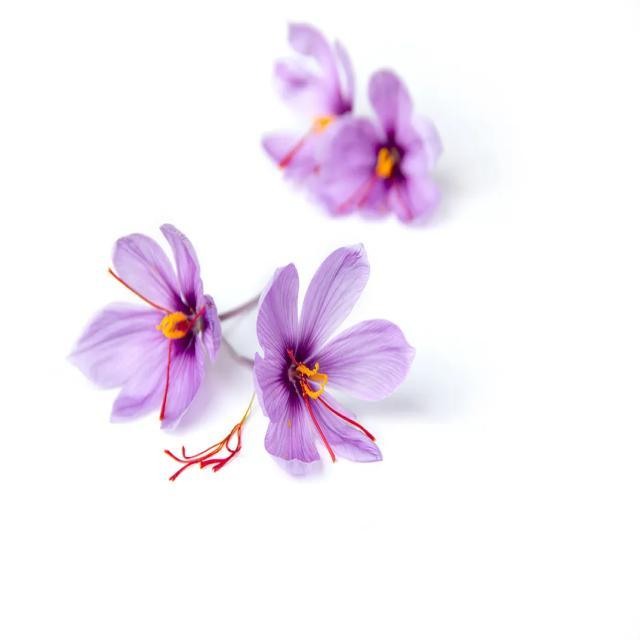Flower: (259, 245, 417, 466), (69, 224, 223, 427), (323, 66, 446, 228), (262, 21, 356, 201)
stigma: (166, 419, 242, 487), (305, 382, 382, 443), (298, 383, 341, 468), (106, 265, 174, 317), (210, 424, 247, 478), (272, 131, 315, 175), (156, 339, 178, 424), (162, 444, 202, 466), (195, 454, 232, 470)
